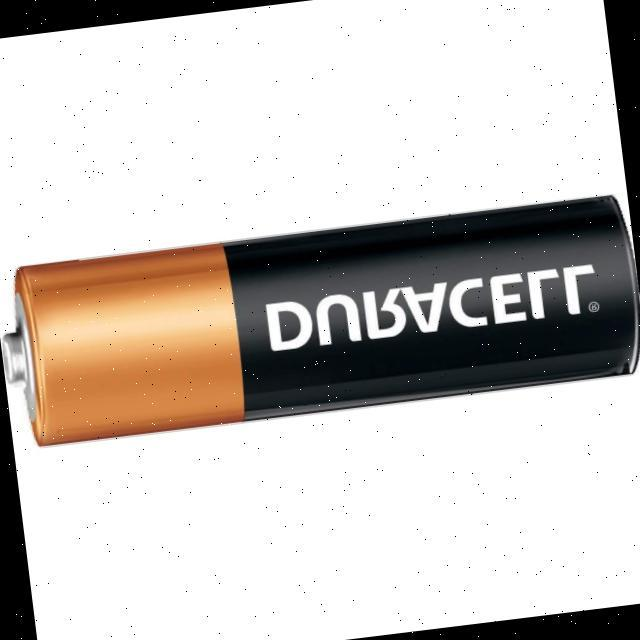AA: (10, 192, 638, 446)
